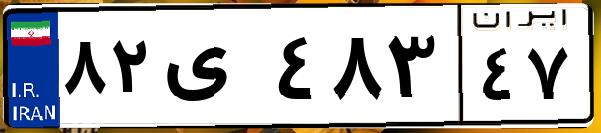2: (110, 28, 158, 98)
3: (385, 28, 445, 110)
4: (270, 28, 330, 110), (475, 38, 525, 113)
7: (525, 38, 570, 115)
8: (330, 28, 385, 110), (57, 26, 110, 100)
ی: (158, 20, 270, 120)
